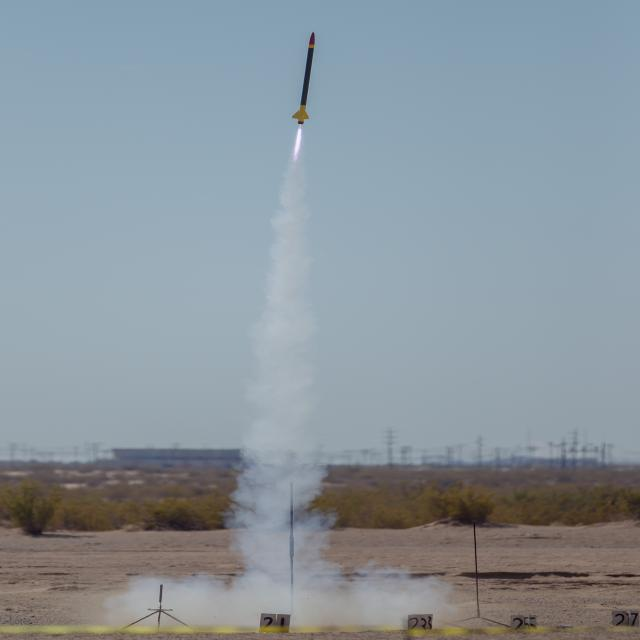Rocket: (292, 31, 316, 124)
